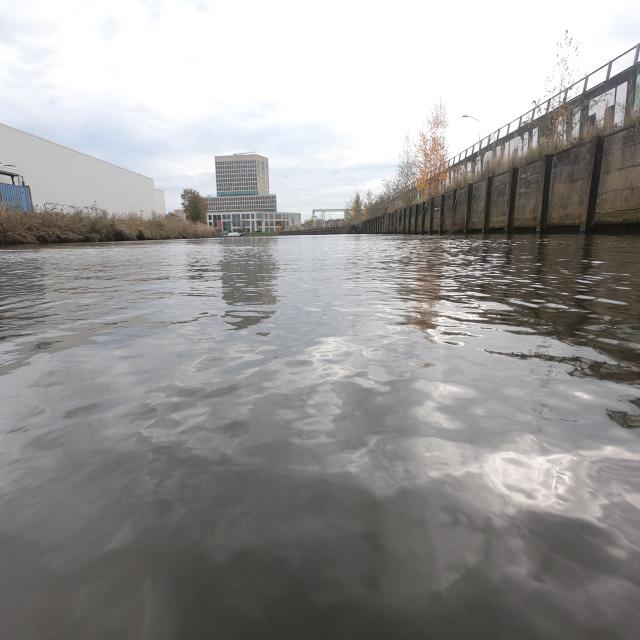reed: (0, 204, 218, 245)
sky: (12, 4, 632, 212)
wall: (358, 114, 638, 232)
water: (0, 235, 640, 640)
